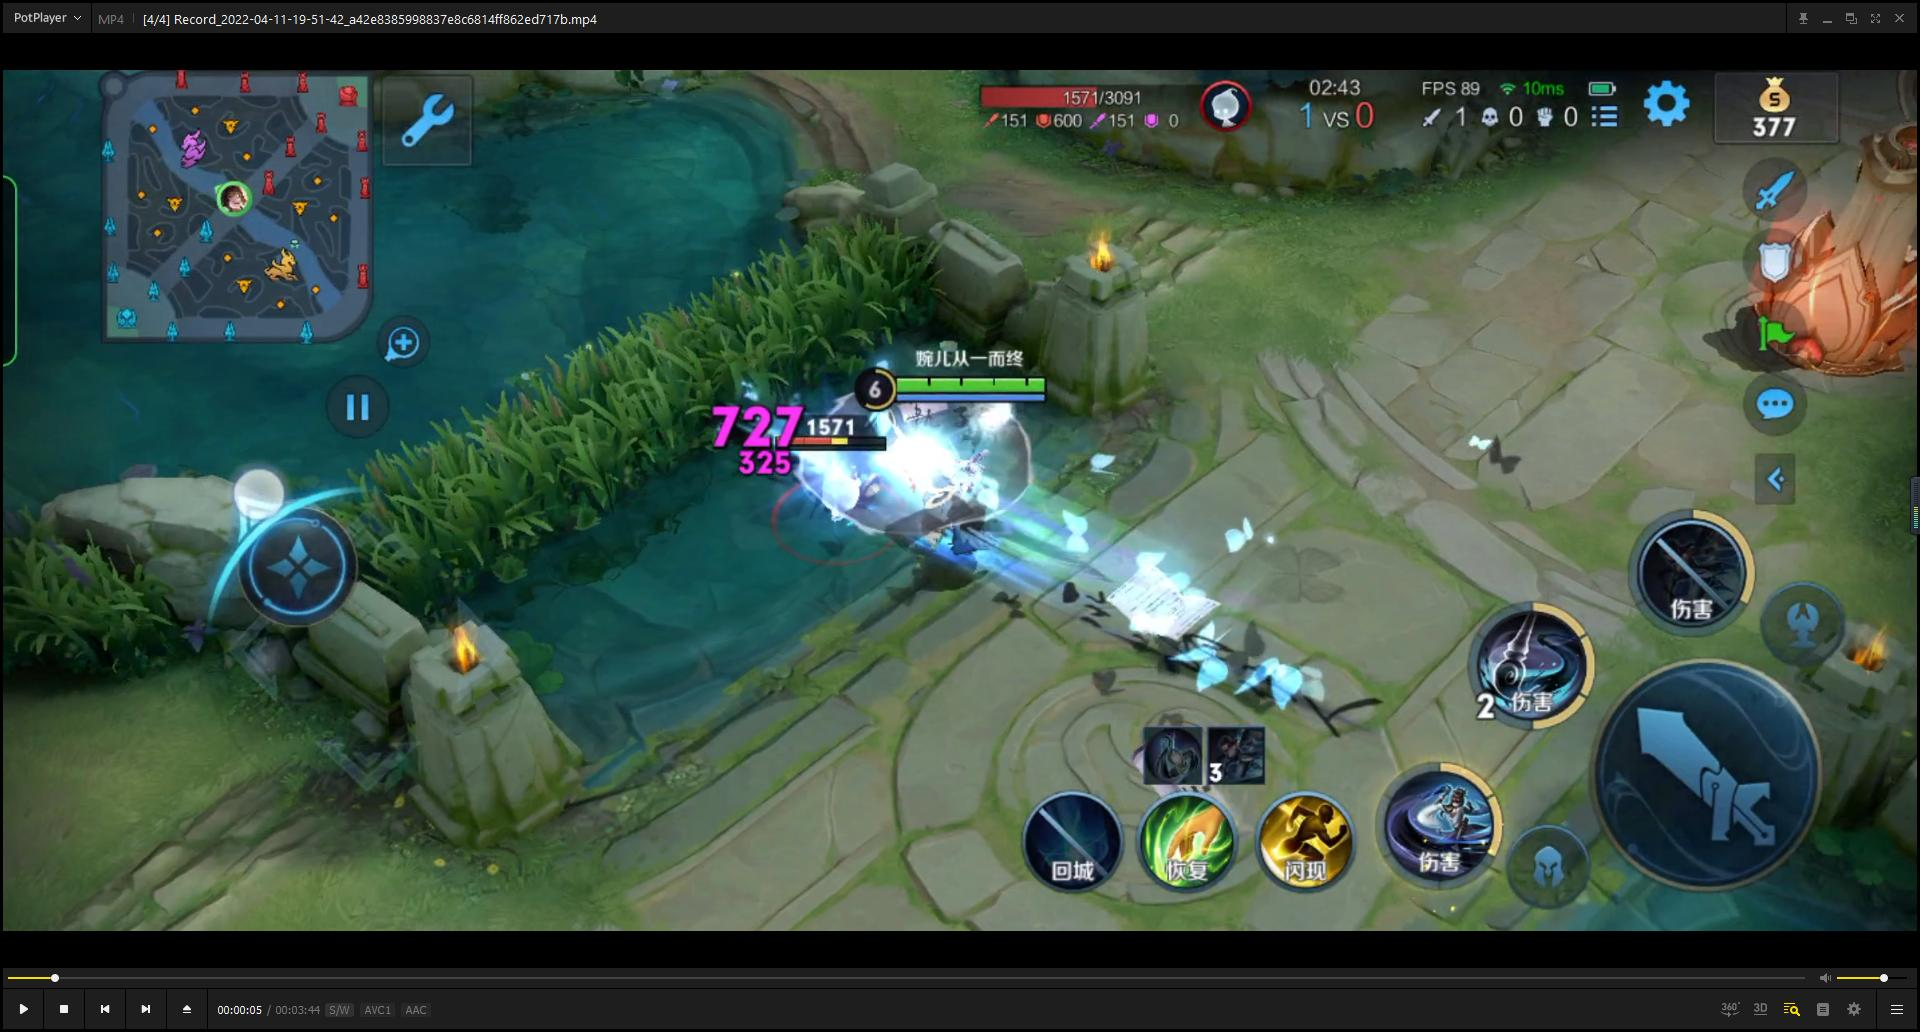Hero: (874, 411, 1079, 641)
Spirit: (745, 394, 914, 578)
Tower: (1707, 72, 1920, 389)
